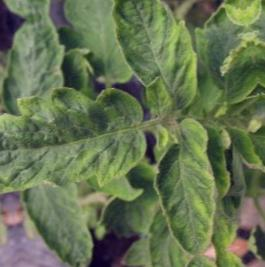Tomato leaf yellow virus: (0, 79, 161, 205), (144, 113, 238, 253), (108, 0, 215, 120), (0, 13, 79, 139), (16, 169, 112, 267)
